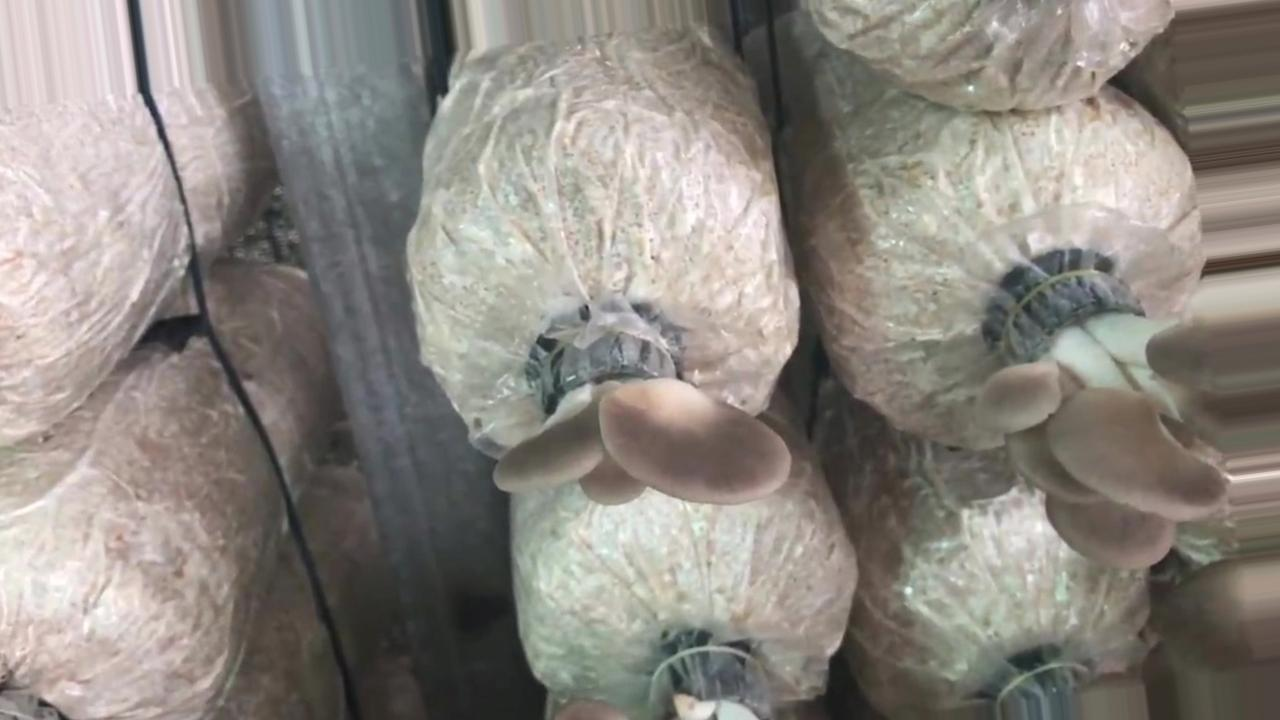nam: (982, 266, 1280, 571), (502, 328, 786, 506)
